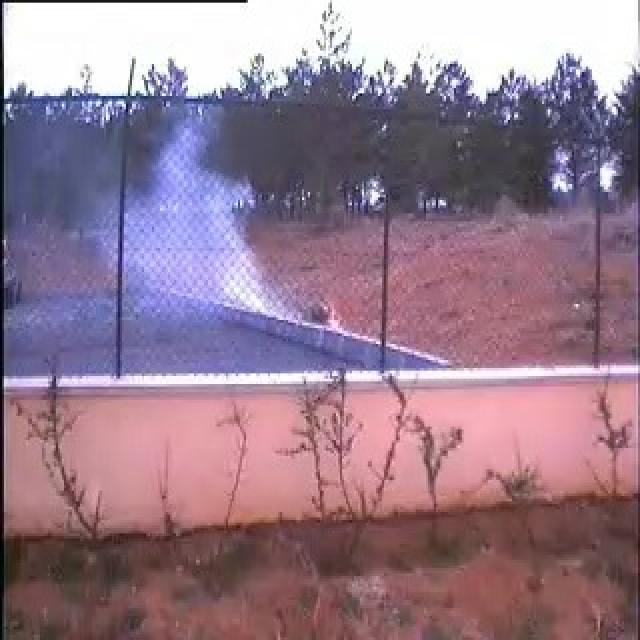smoke: (93, 104, 294, 324)
